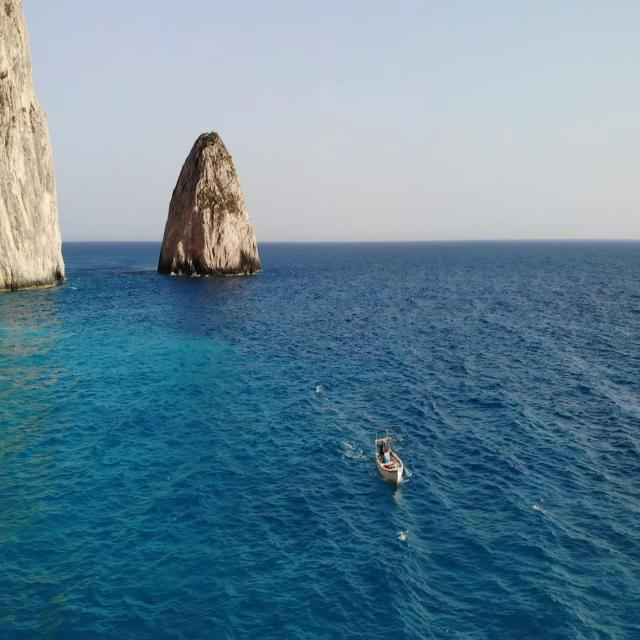boat: (374, 434, 406, 490)
